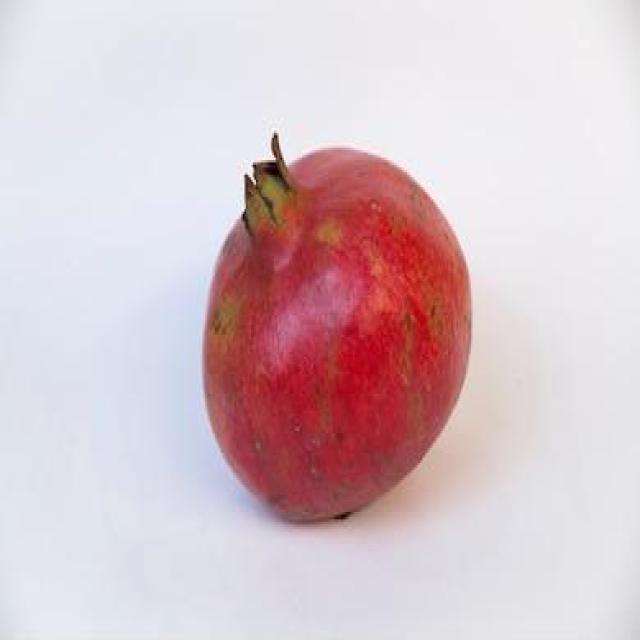Pomegranate: (201, 127, 476, 526)
